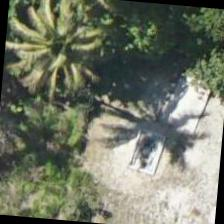Kelapa_Sawit: (6, 0, 105, 91)
